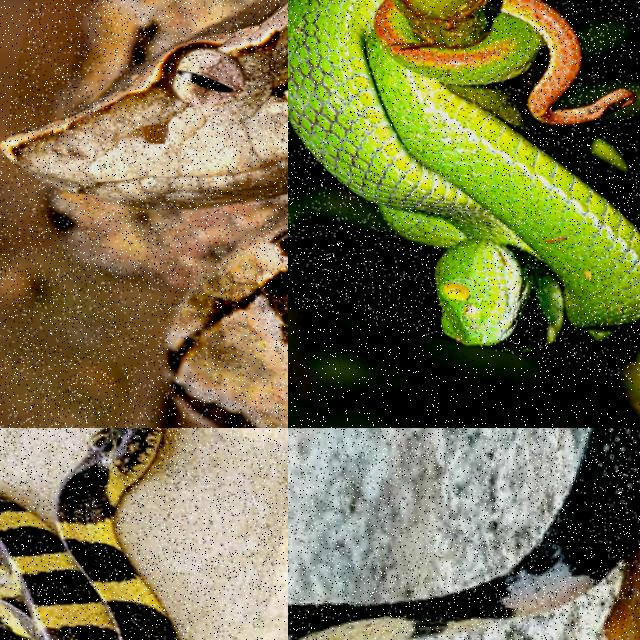Bungarus fasciatus: (0, 428, 176, 639)
Calloselasma rhodostoma: (3, 0, 287, 208)
Naja siamensis: (288, 428, 639, 639)
Trimeresurus macrops: (288, 0, 639, 344)
snake: (288, 0, 639, 344), (288, 428, 639, 639), (3, 0, 287, 208), (0, 428, 176, 639)
